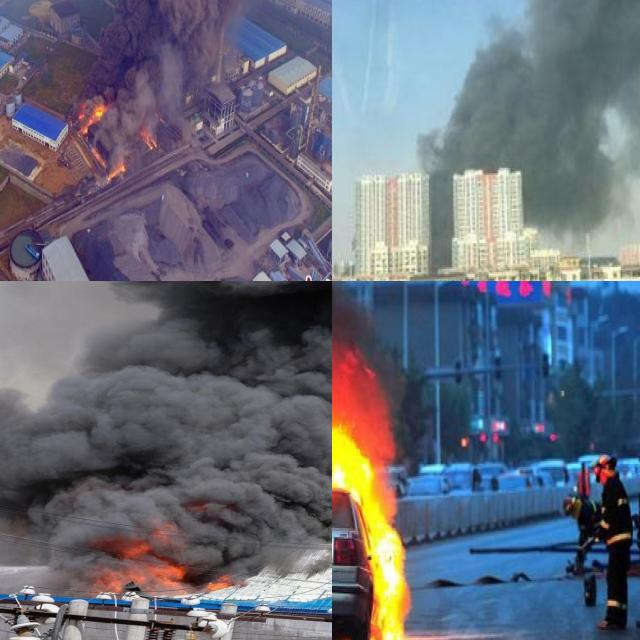fire: (332, 350, 418, 640), (84, 530, 236, 598), (75, 91, 123, 177), (76, 96, 106, 134), (140, 121, 158, 150)
smoke: (0, 281, 332, 586), (415, 0, 640, 267), (85, 0, 332, 152)
